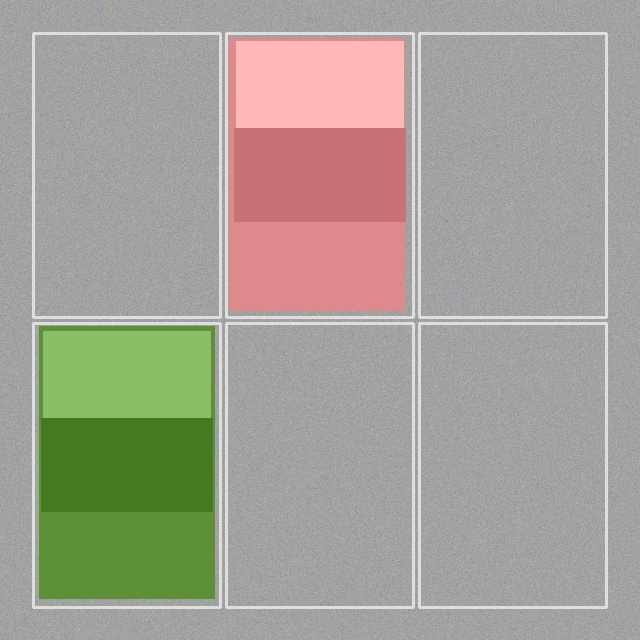space-empty: (35, 35, 218, 315), (421, 35, 604, 315), (228, 325, 411, 605), (421, 325, 604, 605)
space-occupied: (228, 35, 411, 315), (35, 325, 218, 605)
